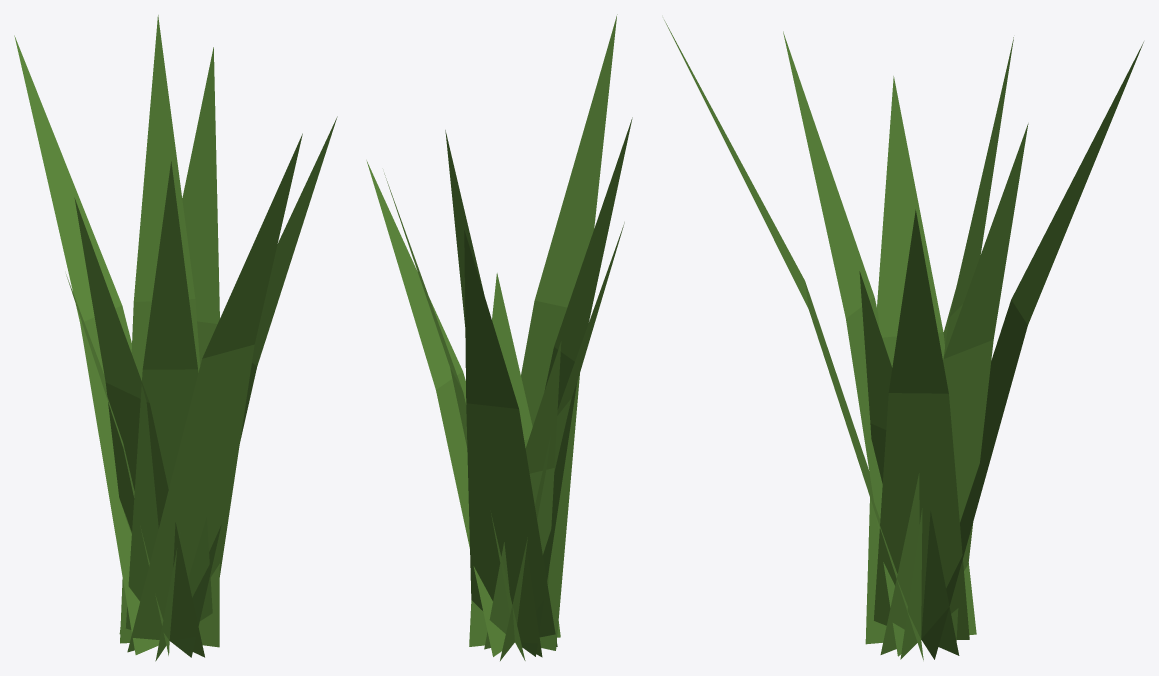
The picture shows the model from 3 angles, left to right: view 1: azimuth 30°, elevation 25°; view 2: azimuth 150°, elevation 25°; view 3: azimuth 270°, elevation 25°; orthographic projection. The views are drawn at different scales.
Parts seen in each view (by area): view 1: 草_01; view 2: 草_01; view 3: 草_01.
Part boxes in pixels (x1,y1,x2,y2): 草_01: [14, 15, 337, 661]; 草_01: [366, 14, 632, 660]; 草_01: [664, 20, 1143, 660].
Bounding box in the file's own units: 0.2768 × 0.5753 × 0.3996.
